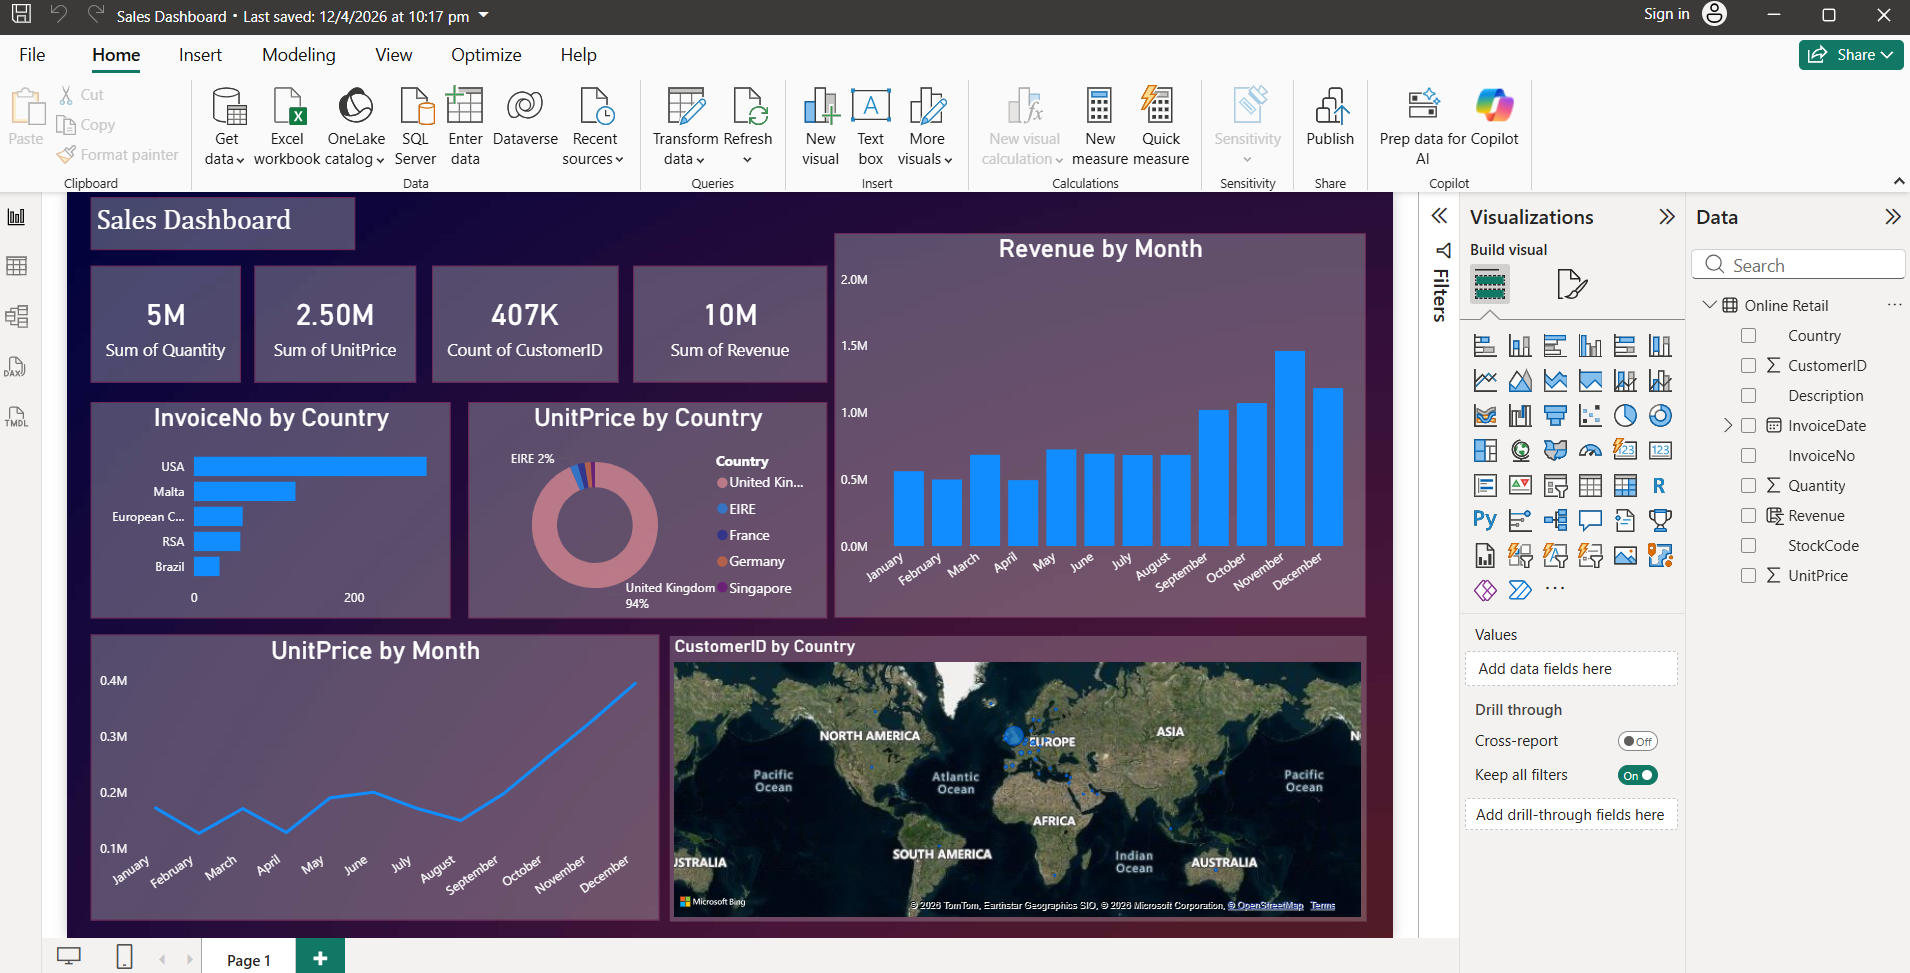

What the dashboard file says about the page in this screenshot:
{"tool":"powerbi","page":{"name":"Page 1","canvas":[1280,720],"ordinal":0},"visuals":[{"type":"card","fields":{"Values":["Sum(Online Retail.Quantity)"]},"box":[22.5,71.2,145,112.5],"z":0},{"type":"card","fields":{"Values":["Sum(Online Retail.UnitPrice)"]},"box":[181.2,71.2,156.2,112.5],"z":1},{"type":"card","fields":{"Values":["CountNonNull(Online Retail.CustomerID)"]},"box":[352.5,71.2,180,112.5],"z":2},{"type":"barChart","title":"InvoiceNo by Country","fields":{"Category":["Online Retail.Country"],"Y":["CountNonNull(Online Retail.InvoiceNo)"]},"box":[22.5,202.5,347.5,208.8],"z":4},{"type":"lineChart","title":"UnitPrice by Month","fields":{"Y":["Sum(Online Retail.UnitPrice)"],"Category":["Online Retail.InvoiceDate.Variation.Date Hierarchy.Month"]},"box":[22.5,427.5,548.8,276.2],"z":5},{"type":"donutChart","title":"UnitPrice by Country","fields":{"Category":["Online Retail.Country"],"Y":["Sum(Online Retail.UnitPrice)"]},"box":[387.5,202.5,346.2,208.8],"z":6},{"type":"clusteredColumnChart","title":"Revenue by Month","fields":{"Y":["Sum(Online Retail.Revenue)"],"Category":["Online Retail.InvoiceDate.Variation.Date Hierarchy.Month"]},"box":[741.2,40,512.5,371.2],"z":7},{"type":"map","title":"CustomerID by Country","fields":{"Category":["Online Retail.Country"],"Size":["CountNonNull(Online Retail.CustomerID)"]},"box":[581.2,428.8,672.5,276.2],"z":8},{"type":"textbox","box":[22.5,5,255,51.2],"z":9},{"type":"card","fields":{"Values":["Sum(Online Retail.Revenue)"]},"box":[546.2,71.2,187.5,112.5],"z":10}]}

Visuals, with their boxes on the page's 1280x720 design canvas (x1, y1, x2, y2). These are canvas units, not pixel positions in the 1910x973 screenshot, which may show the page scaled, cropped or inside an application window:
card - Sum(Online Retail.Quantity): 22,71,168,184
card - Sum(Online Retail.UnitPrice): 181,71,337,184
card - CountNonNull(Online Retail.CustomerID): 352,71,532,184
"InvoiceNo by Country" barChart: 22,202,370,411
"UnitPrice by Month" lineChart: 22,428,571,704
"UnitPrice by Country" donutChart: 388,202,734,411
"Revenue by Month" clusteredColumnChart: 741,40,1254,411
"CustomerID by Country" map: 581,429,1254,705
textbox: 22,5,278,56
card - Sum(Online Retail.Revenue): 546,71,734,184
